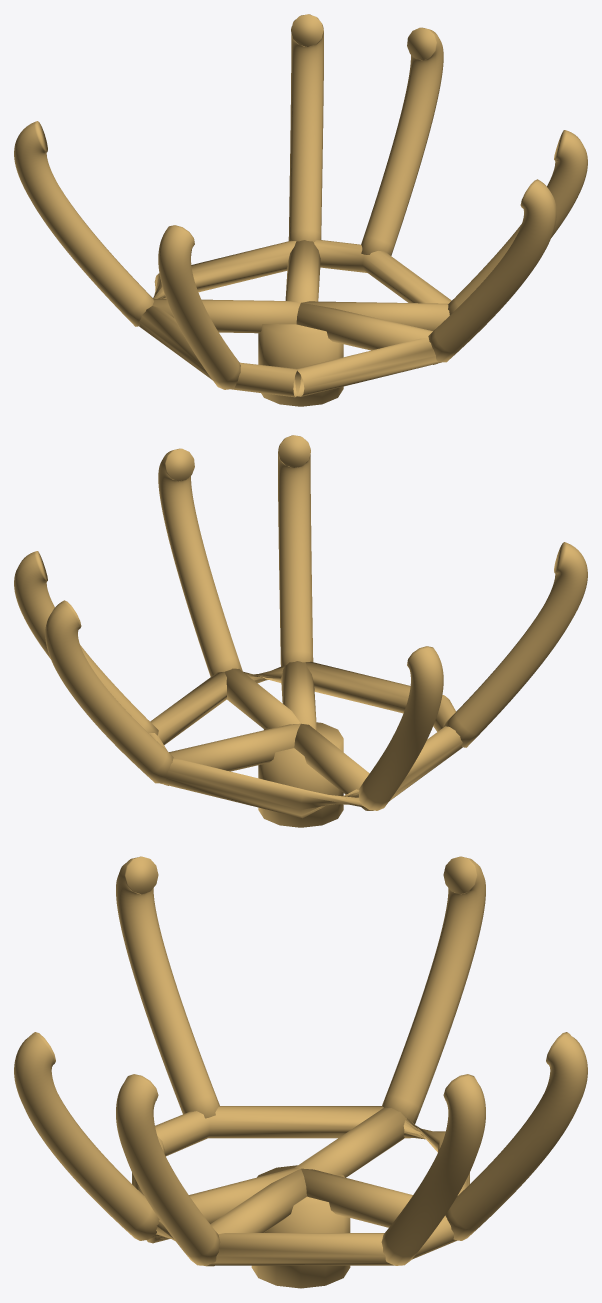
The model's file is stuller-lg-500104790-6-prong.glb.
3 views of the same model, one above another, from view 1: azimuth 30°, elevation 25°; view 2: azimuth 150°, elevation 25°; view 3: azimuth 270°, elevation 25° (orthographic). The views are drawn at different scales.
Parts seen in each view (by area): view 1: Metal.284, Metal.289, Metal.290, Metal.291, Metal.293, Metal.292, Metal.283, Metal.288, Metal.294, Metal.287, Metal.285, Metal.286; view 2: Metal.284, Metal.294, Metal.293, Metal.292, Metal.290, Metal.291, Metal.283, Metal.289, Metal.286, Metal.287, Metal.285, Metal.288; view 3: Metal.284, Metal.291, Metal.292, Metal.293, Metal.290, Metal.294, Metal.289, Metal.283, Metal.287, Metal.286, Metal.285, Metal.288.
Boxes of the visible parts, box(x1,y1,x2,y2) form: Metal.284: box(139, 240, 451, 397); Metal.289: box(361, 27, 443, 255); Metal.290: box(288, 14, 323, 242); Metal.291: box(14, 121, 153, 326); Metal.293: box(428, 179, 556, 362); Metal.292: box(158, 225, 240, 389); Metal.283: box(258, 324, 343, 406); Metal.288: box(296, 302, 437, 364); Metal.294: box(448, 130, 587, 314); Metal.287: box(152, 299, 300, 333); Metal.285: box(302, 301, 449, 330); Metal.286: box(285, 240, 320, 302); Metal.284: box(149, 661, 462, 818); Metal.294: box(158, 448, 242, 676); Metal.293: box(278, 435, 313, 666); Metal.292: box(443, 542, 587, 747); Metal.290: box(45, 600, 173, 783); Metal.291: box(358, 646, 443, 810); Metal.283: box(258, 722, 343, 827); Metal.289: box(14, 551, 158, 735); Metal.286: box(164, 723, 300, 785); Metal.287: box(294, 723, 373, 810); Metal.285: box(224, 668, 300, 729); Metal.288: box(281, 661, 316, 730); Metal.284: box(132, 1106, 469, 1265); Metal.291: box(382, 856, 485, 1124); Metal.292: box(116, 856, 219, 1118); Metal.293: box(14, 1032, 159, 1240); Metal.290: box(445, 1032, 587, 1240); Metal.294: box(116, 1074, 220, 1265); Metal.289: box(381, 1074, 485, 1265); Metal.283: box(251, 1165, 350, 1288); Metal.287: box(294, 1107, 406, 1177); Metal.286: box(301, 1168, 412, 1227); Metal.285: box(206, 1169, 306, 1266); Metal.288: box(146, 1168, 300, 1243).
Bounding box in the file's own units: 6.89 × 4.06 × 6.99.
